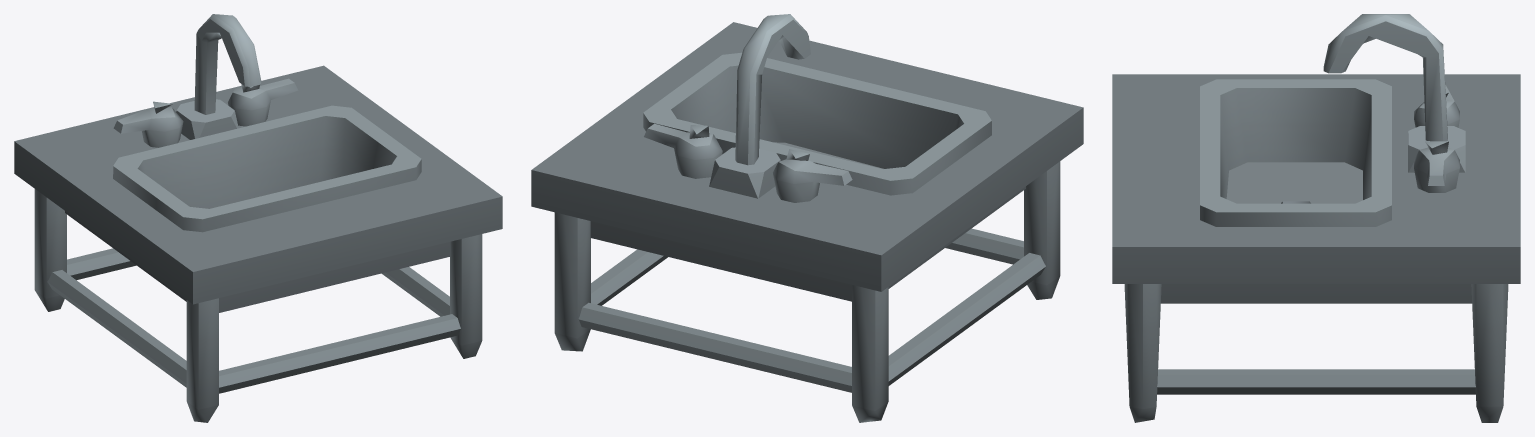
The model's file is cc0-kitchentable-sink-lod1.glb.
3 renders of one model, left to right at view 1: azimuth 30°, elevation 25°; view 2: azimuth 150°, elevation 25°; view 3: azimuth 270°, elevation 25°, orthographic. The views are drawn at different scales.
Visible parts, largest first — view 1: part_0; view 2: part_0; view 3: part_0.
Boxes of the visible parts, box(x1,y1,x2,y2) form: part_0: box(14, 14, 502, 422); part_0: box(531, 14, 1083, 422); part_0: box(1112, 14, 1520, 422).
Size of the model in its own units: 2 by 1.81 by 2.
1 material, 1 textured.
